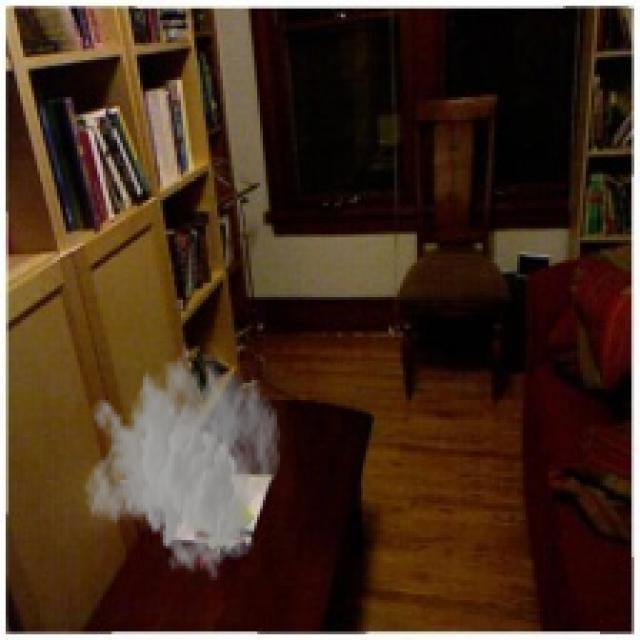Smoke: (83, 334, 283, 583)
